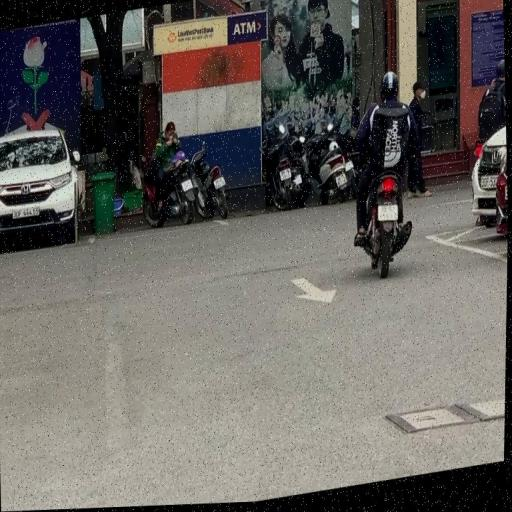bike: (346, 68, 423, 289)
numberplate: (376, 204, 400, 228), (335, 174, 348, 191), (280, 169, 293, 184), (182, 179, 194, 194), (214, 177, 226, 192)
with helmet: (378, 72, 400, 102)
